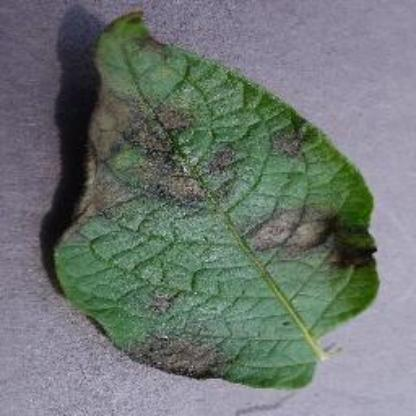Late-Blight: (46, 6, 384, 392)
